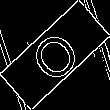O_SE: (23, 22, 87, 88)
